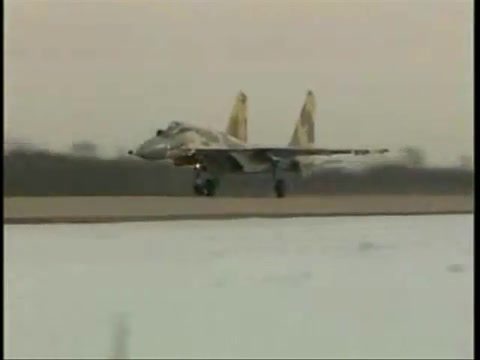aeroplane: (127, 90, 393, 201)
